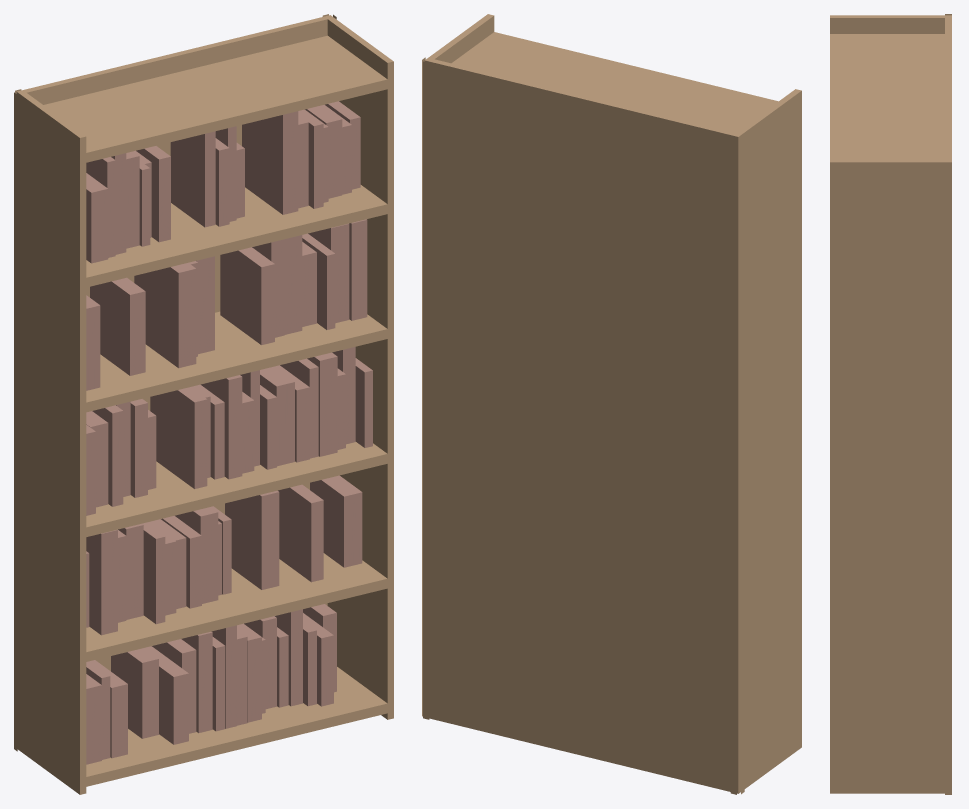
File: Bookshelf.fbx
The picture shows the model from 3 angles, left to right: view 1: azimuth 30°, elevation 25°; view 2: azimuth 150°, elevation 25°; view 3: azimuth 270°, elevation 25°; orthographic projection. The views are drawn at different scales.
Visible parts, largest first — view 1: Bookshelf; view 2: Bookshelf; view 3: Bookshelf.
Part boxes in pixels (x1,y1,x2,y2): Bookshelf: (14,14,393,794); Bookshelf: (422,14,801,794); Bookshelf: (830,14,951,794).
Bounding box in the file's own units: 1.02 × 2 × 0.358.
